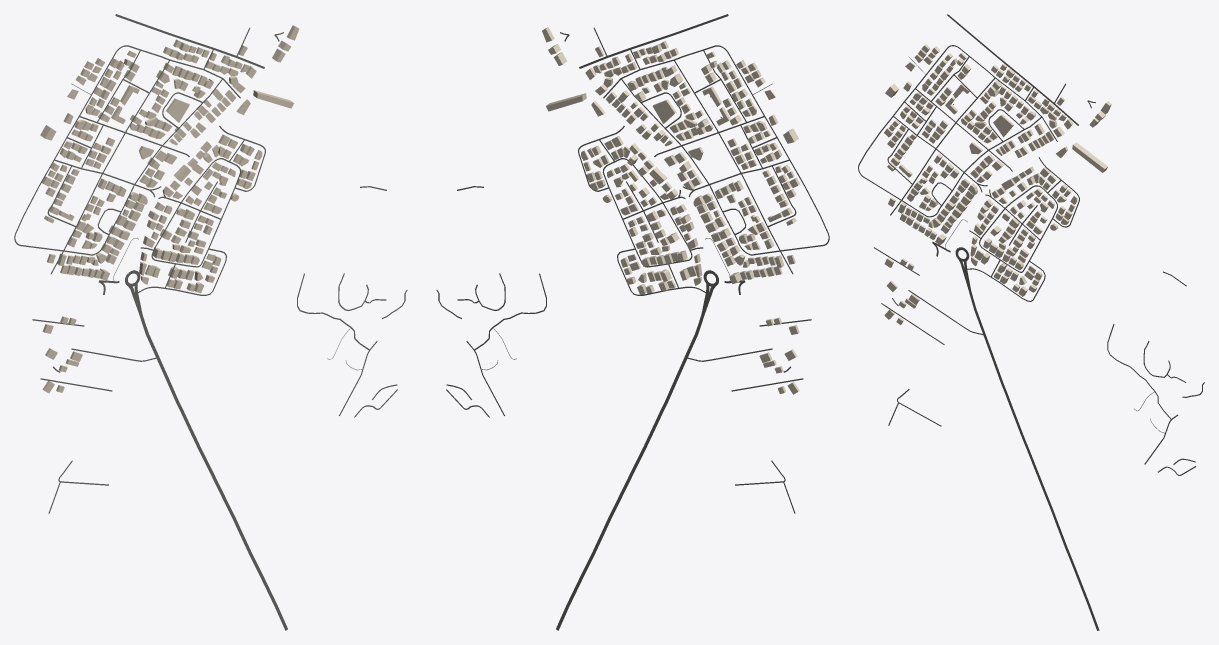
Rendered from historic-palestine-11_28_3530_3222.glb.
The picture shows the model from 3 angles, left to right: view 1: azimuth 30°, elevation 25°; view 2: azimuth 150°, elevation 25°; view 3: azimuth 330°, elevation 25°; orthographic projection. The views are drawn at different scales.
Visible parts, largest first — view 1: Road شارع سليمان النابلسي, Road .026; view 2: Road شارع سليمان النابلسي, Road .026; view 3: Road شارع سليمان النابلسي, Road .026.
Boxes of the visible parts, <box> form: Road شارع سليمان النابلسي: <box>140,314,287,630</box>; Road .026: <box>14,45,240,251</box>; Road شارع سليمان النابلسي: <box>556,314,703,630</box>; Road .026: <box>603,45,829,251</box>; Road شارع سليمان النابلسي: <box>968,290,1099,630</box>; Road .026: <box>858,45,1057,200</box>.
Size of the model in its own units: 1058 by 1692 by 22.9.
